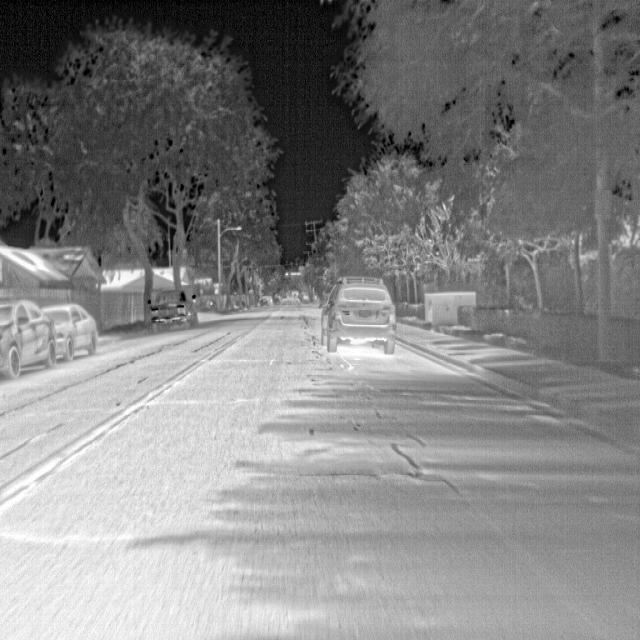Vehicle: (318, 272, 399, 356), (0, 295, 58, 379), (40, 300, 99, 361), (145, 286, 199, 335)
